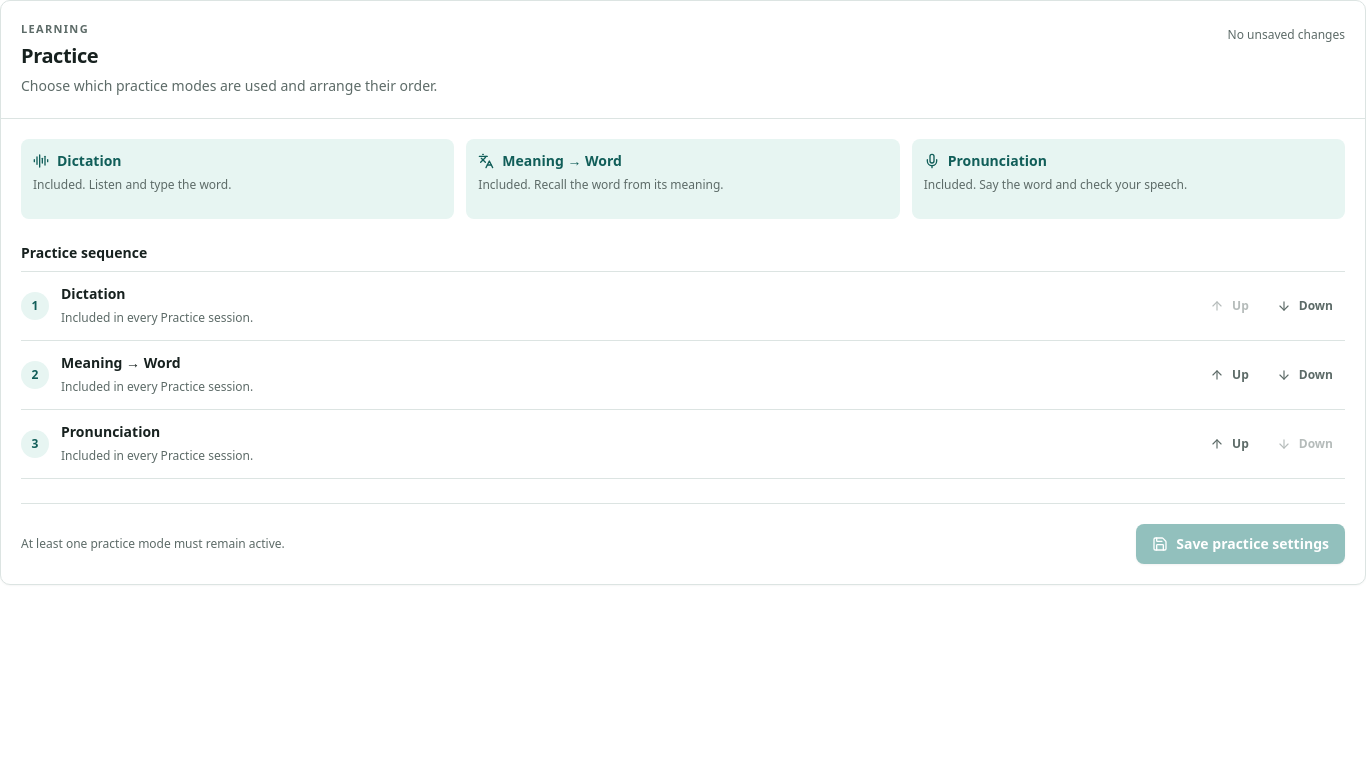
it: SettingsPracticePage manual save › keeps the local draft visible after a save failure
This screenshot has width=1366, height=768.
Expected: the heading "Practice" is shown, [21,42,98,68]
Click the button "Pronunciation Included. Say the word and check your speech.". click: (1128, 178)
box: [912,138,1345,218]
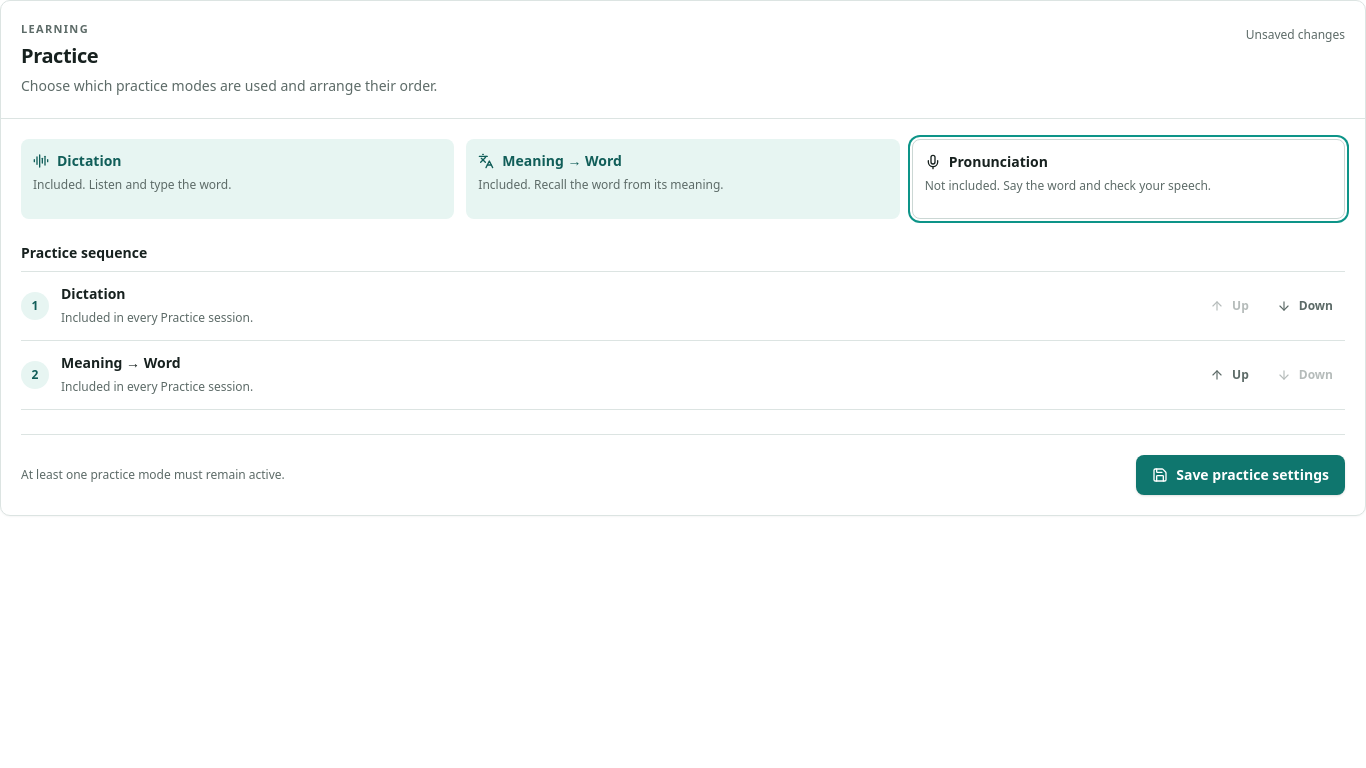
Click the button "Save practice settings". click: (1241, 474)
box: [1136,454,1345,494]
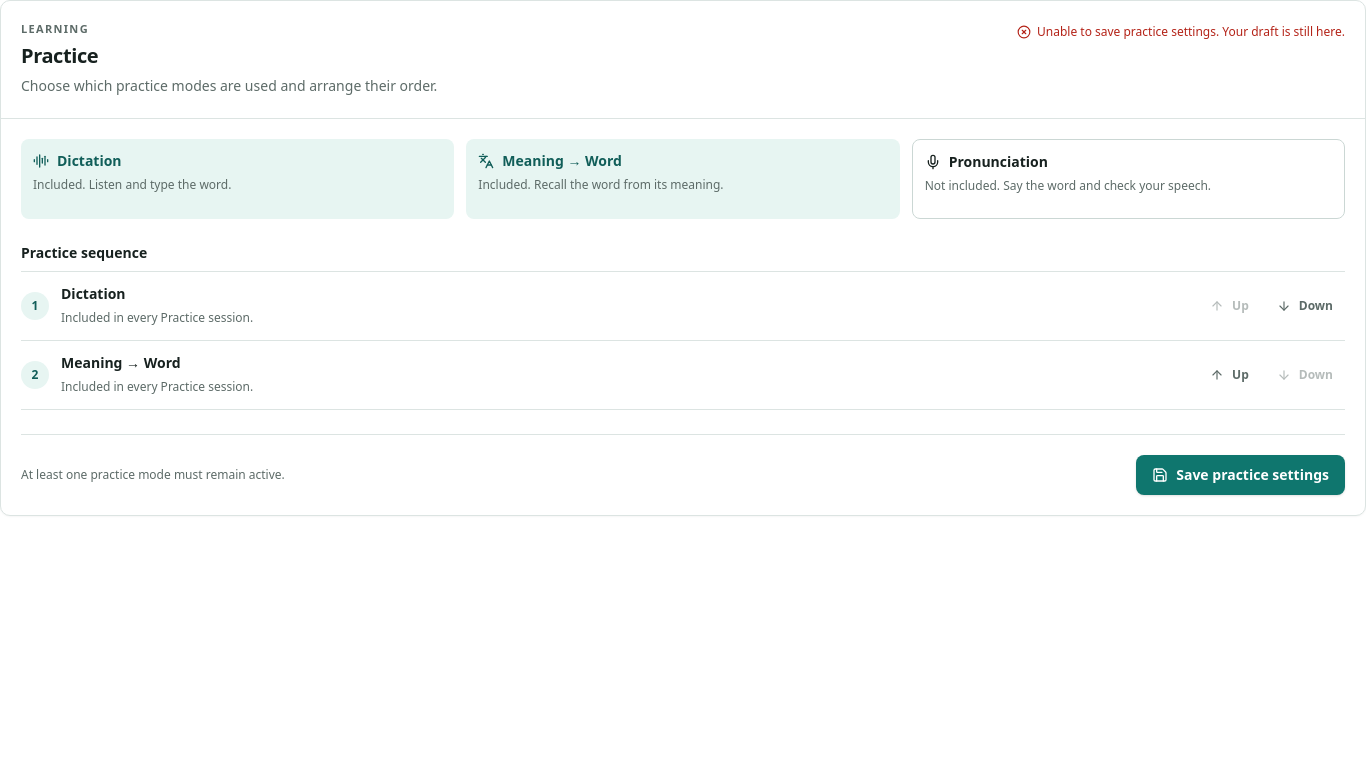
Now the text "Not included. Say the word and check your speech." is shown, box [925,178,1211,194]
Now the button "Save practice settings" is enabled, box [1136,454,1345,494]
Now the text "Unable to save practice settings. Your draft is still here." is shown, box [1017,24,1345,40]
